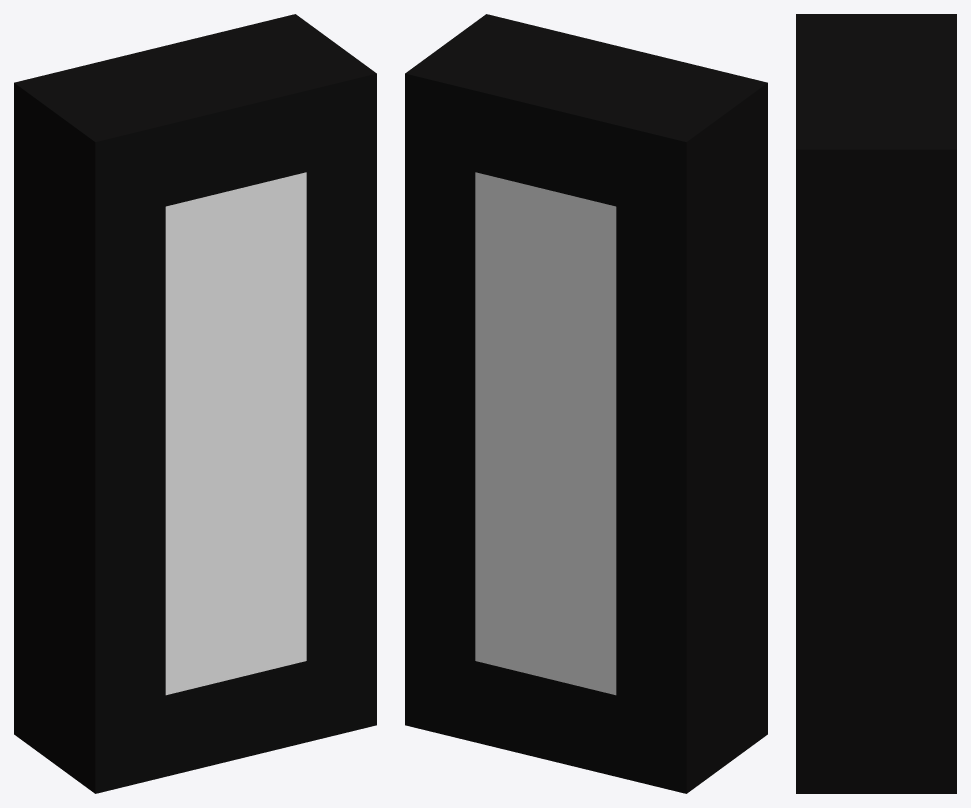
File: Font_Number_1_01.fbx
3 renders of one model, left to right at view 1: azimuth 30°, elevation 25°; view 2: azimuth 150°, elevation 25°; view 3: azimuth 270°, elevation 25°, orthographic.
Visible parts, largest first — view 1: Font_Number_1_01; view 2: Font_Number_1_01; view 3: Font_Number_1_01.
Part boxes in pixels (x1,y1,x2,y2): Font_Number_1_01: (14,14,376,793); Font_Number_1_01: (405,14,767,793); Font_Number_1_01: (796,14,956,793).
Size of the model in its own units: 38.83 by 85.9 by 19.44.
